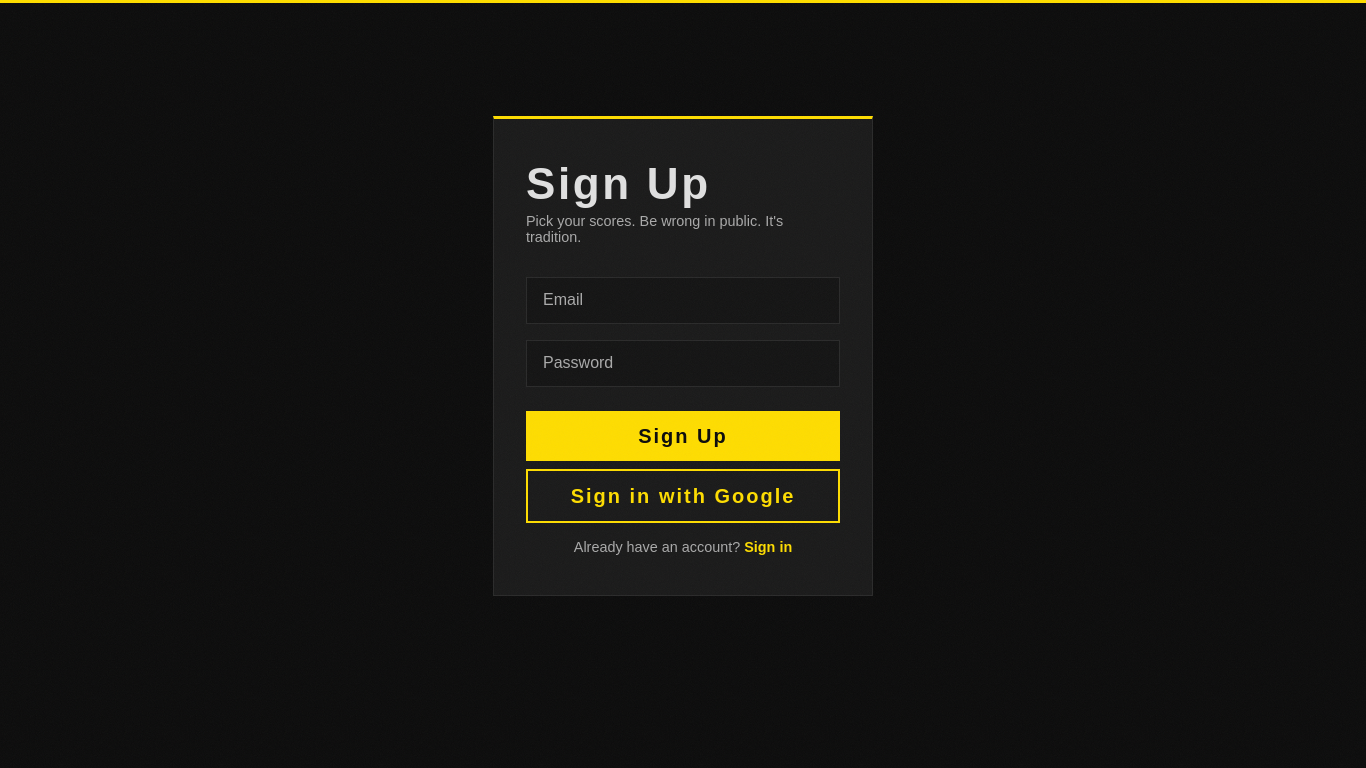
Scenario: SignupView › maps Firebase signUp error auth/weak-password to a user-facing message
Type "test@crew.mock" into the field with placeholder "Email". click: (683,300)
box: [526, 277, 840, 324]
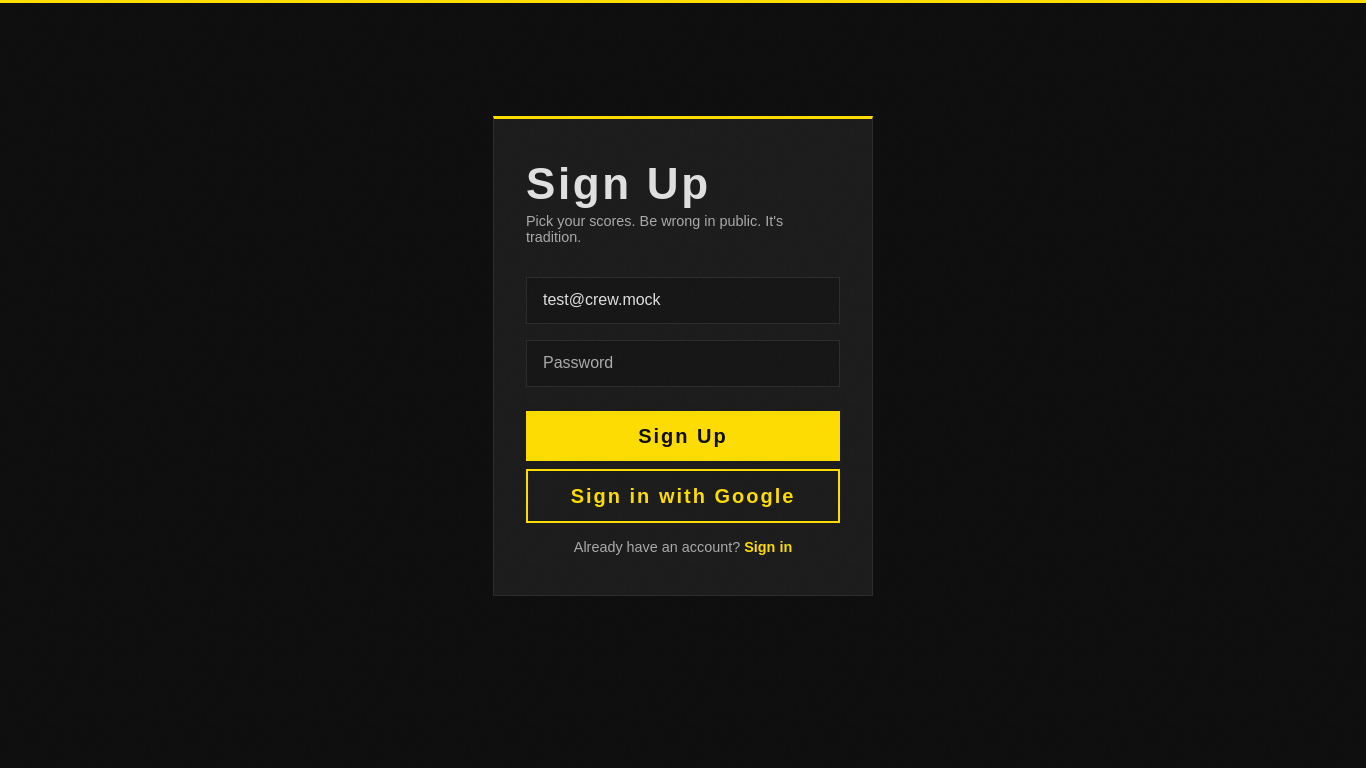
Type "pass123" into the password field with placeholder "Password". click: (683,363)
box: [526, 340, 840, 387]
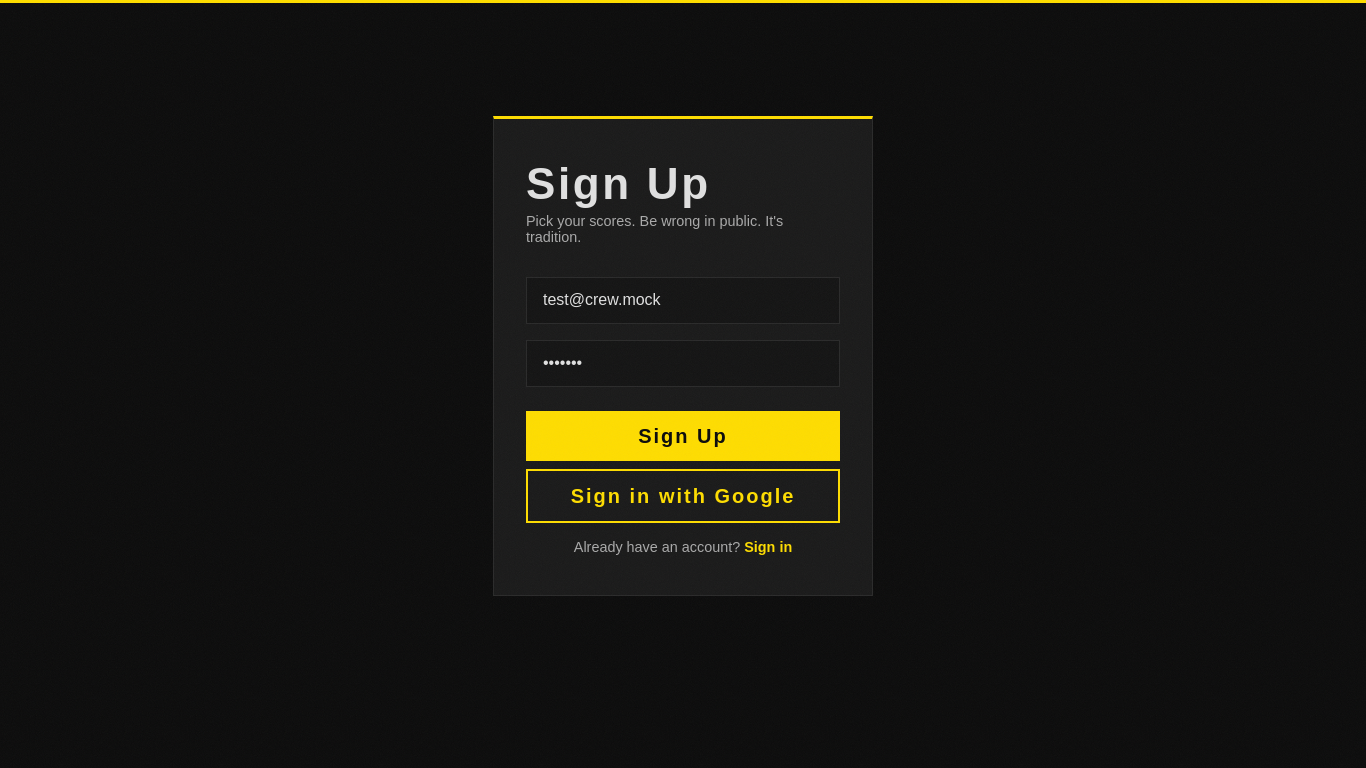
Submit the form, box [526, 277, 840, 461]
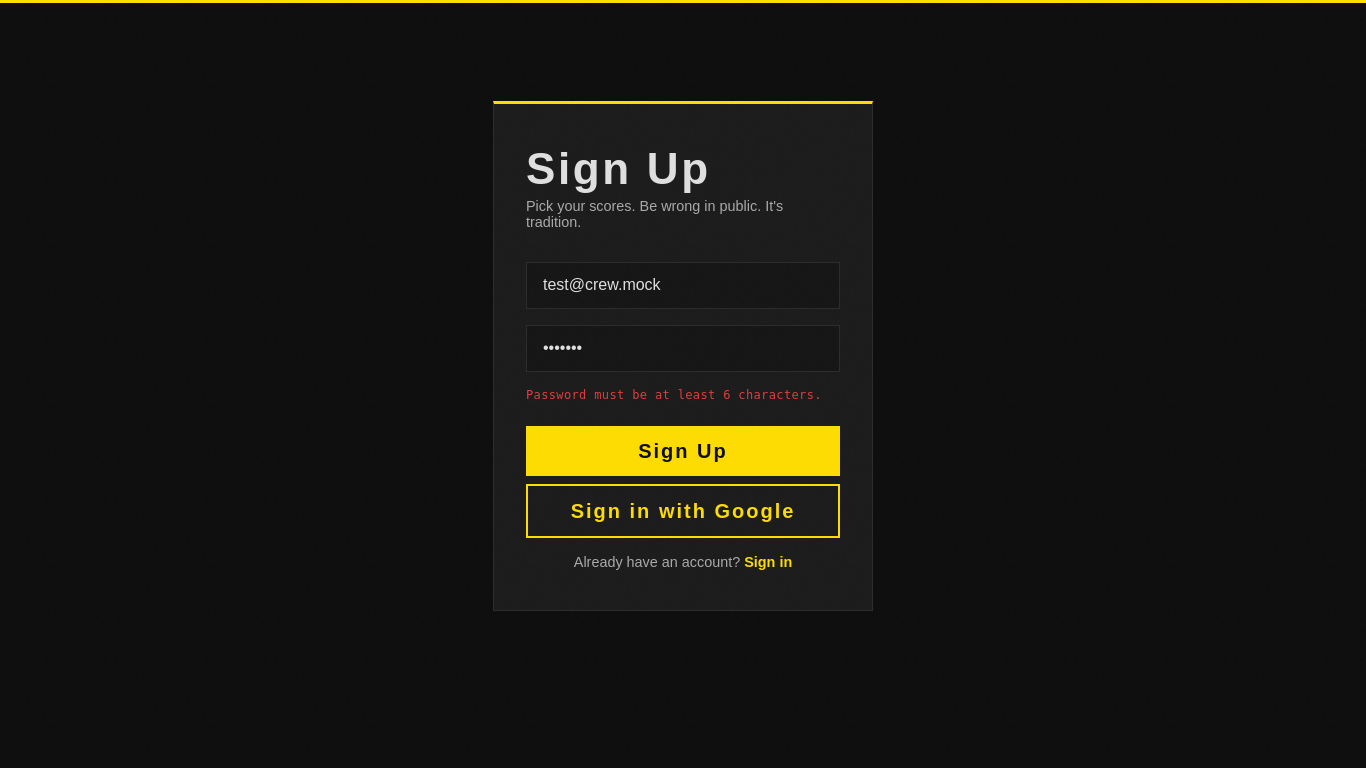
expect the text with class "form-error" reads "Password must be at least 6 characters.": met, box [526, 388, 822, 402]
